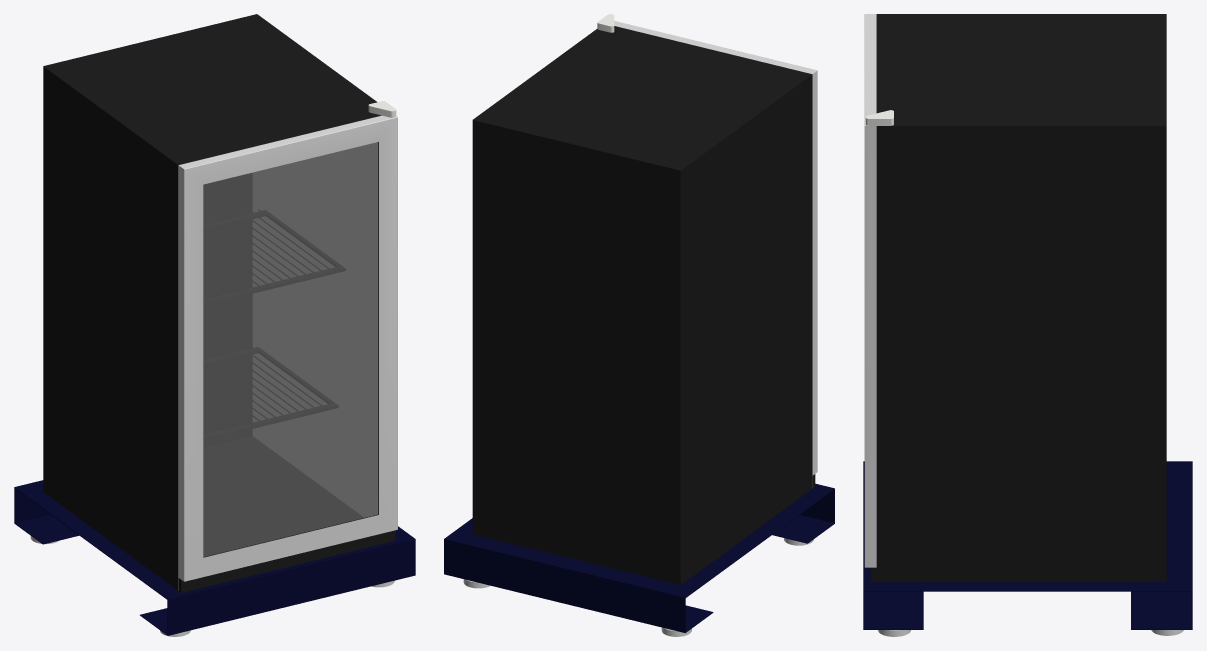
Rendered from bevergaeCenterLux.glb.
3 views of the same model, side by side, from view 1: azimuth 30°, elevation 25°; view 2: azimuth 150°, elevation 25°; view 3: azimuth 270°, elevation 25° (orthographic). The views are drawn at different scales.
Parts seen in each view (by area): view 1: root, baseShell; view 2: root, baseShell; view 3: root, baseShell.
Boxes of the visible parts, <box> form: root: <box>30,14,397,636</box>; baseShell: <box>14,480,415,635</box>; root: <box>463,14,817,636</box>; baseShell: <box>444,483,834,633</box>; root: <box>864,14,1183,636</box>; baseShell: <box>863,461,1192,629</box>.
Bounding box in the file's own units: 0.508 × 0.9382 × 0.5451.
7 materials, 1 textured.
